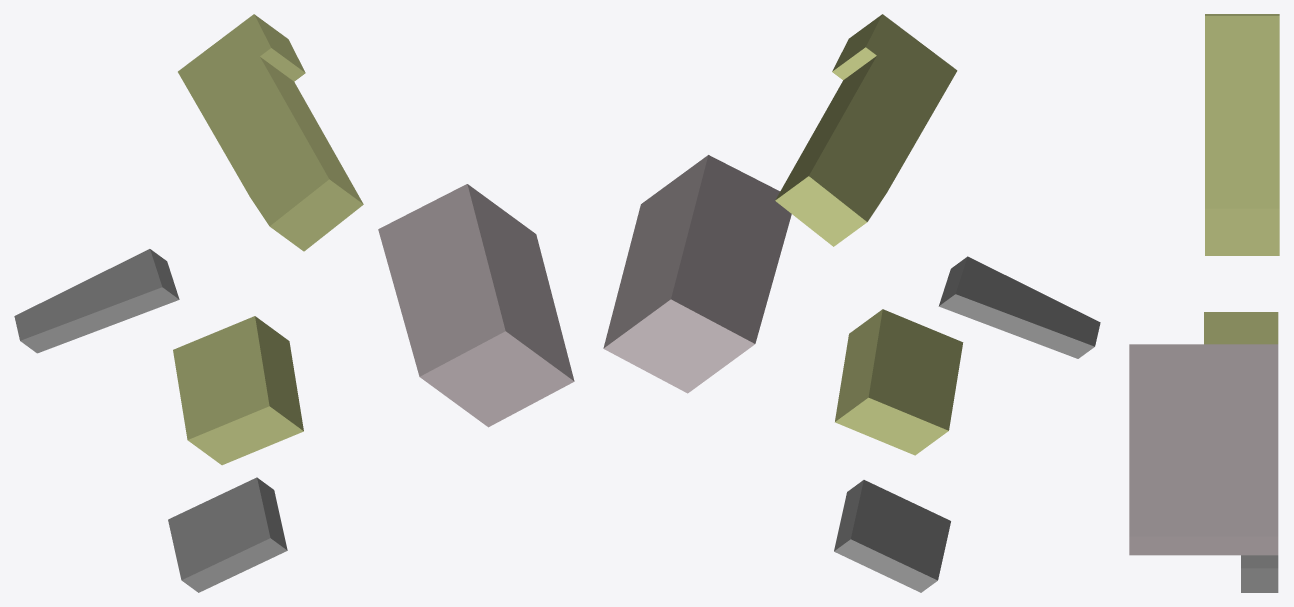
The picture shows the model from 3 angles, left to right: view 1: azimuth 30°, elevation 25°; view 2: azimuth 150°, elevation 25°; view 3: azimuth 270°, elevation 25°; orthographic projection. The views are drawn at different scales.
Visible parts, largest first — view 1: 0_1_0_2_0_0_2_0_1; view 2: 0_1_0_2_0_0_2_0_1; view 3: 0_1_0_2_0_0_2_0_1.
Boxes of the visible parts, <box> form: 0_1_0_2_0_0_2_0_1: <box>14,14,574,592</box>; 0_1_0_2_0_0_2_0_1: <box>603,14,1100,592</box>; 0_1_0_2_0_0_2_0_1: <box>1129,14,1279,592</box>.
Size of the model in its own units: 49.32 by 52.63 by 12.1.
